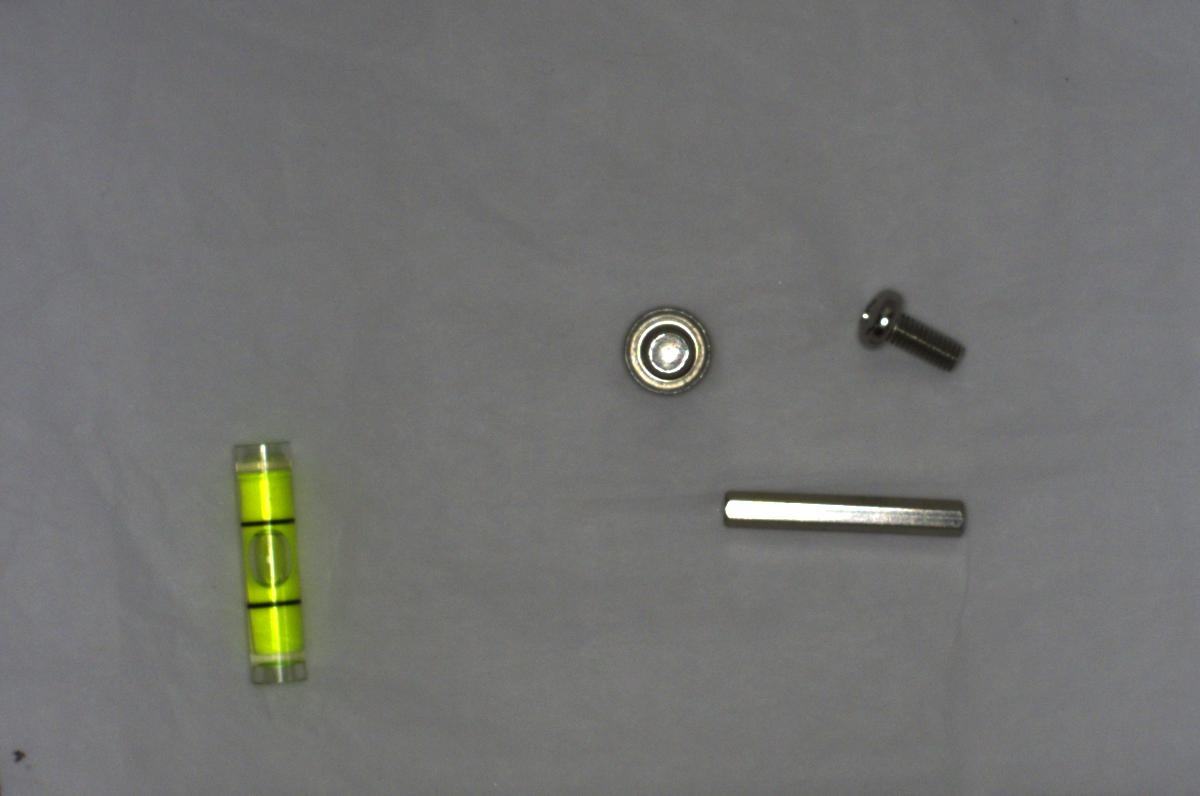Double hexagonal column: (711, 481, 978, 543)
Hexagon screw: (618, 303, 714, 390)
Horizontal bubble: (218, 435, 326, 690)
Round head screw: (841, 281, 968, 373)
